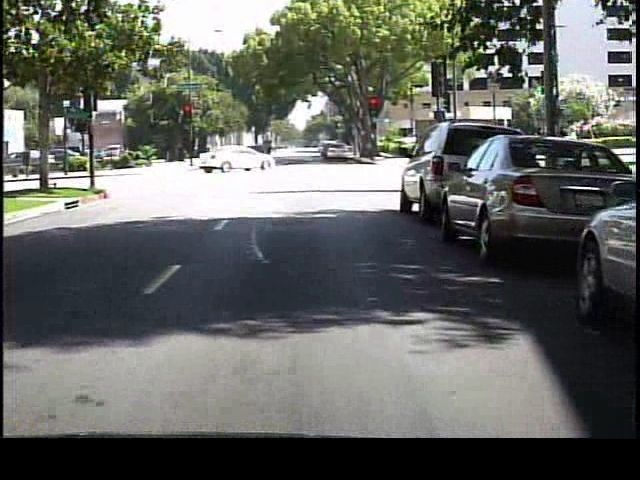person: (263, 140, 279, 171)
